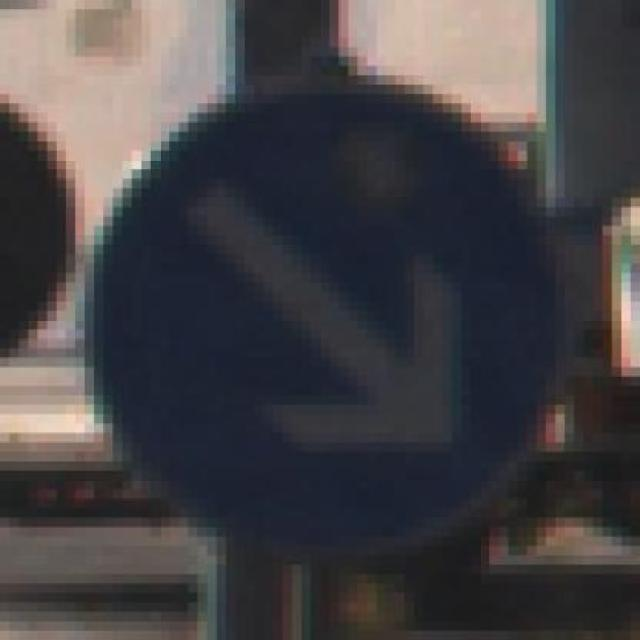Keep-Right: (47, 66, 584, 574)
